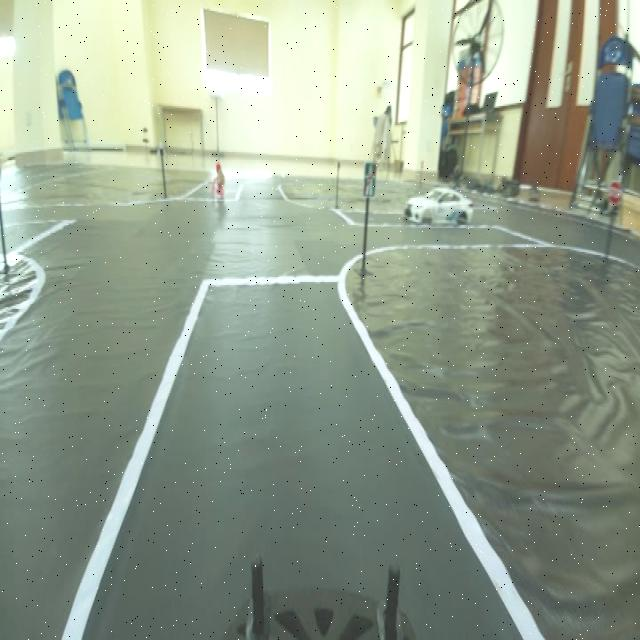highway_exit: (360, 157, 381, 200)
